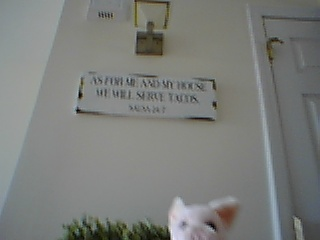piggy: (166, 194, 242, 240)
